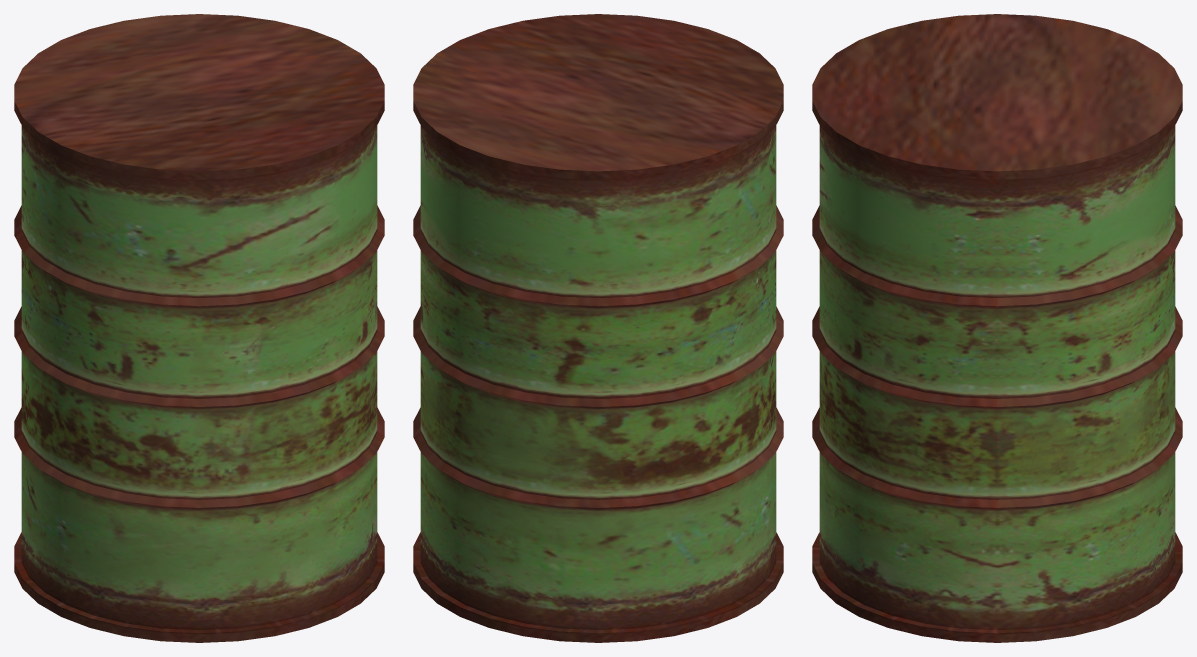
The model's file is barrel_closed.glb.
3 views of the same model, side by side, from view 1: azimuth 30°, elevation 25°; view 2: azimuth 150°, elevation 25°; view 3: azimuth 270°, elevation 25° (orthographic).
Visible parts, largest first — view 1: barrel; view 2: barrel; view 3: barrel.
Boxes of the visible parts, bbox=[...] form: barrel: bbox=[14, 14, 384, 642]; barrel: bbox=[413, 14, 783, 642]; barrel: bbox=[812, 14, 1182, 642].
Bounding box in the file's own units: 0.6287 × 0.8787 × 0.6253.
1 material, 1 textured.
